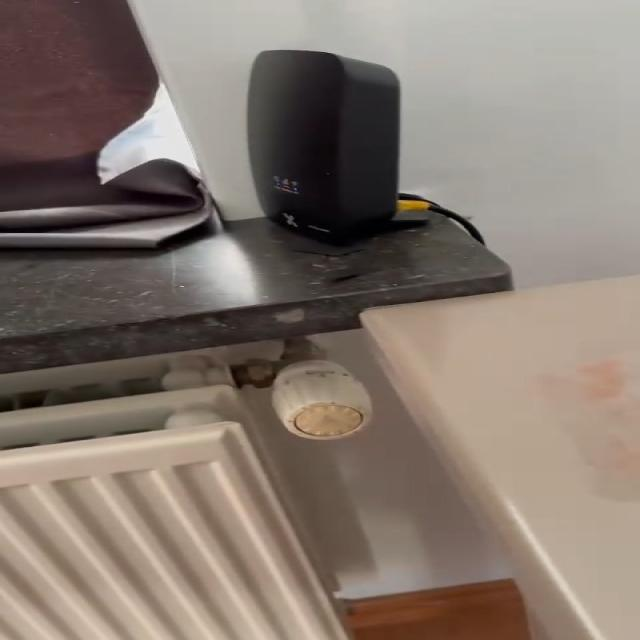authorized: (533, 352, 639, 500)
